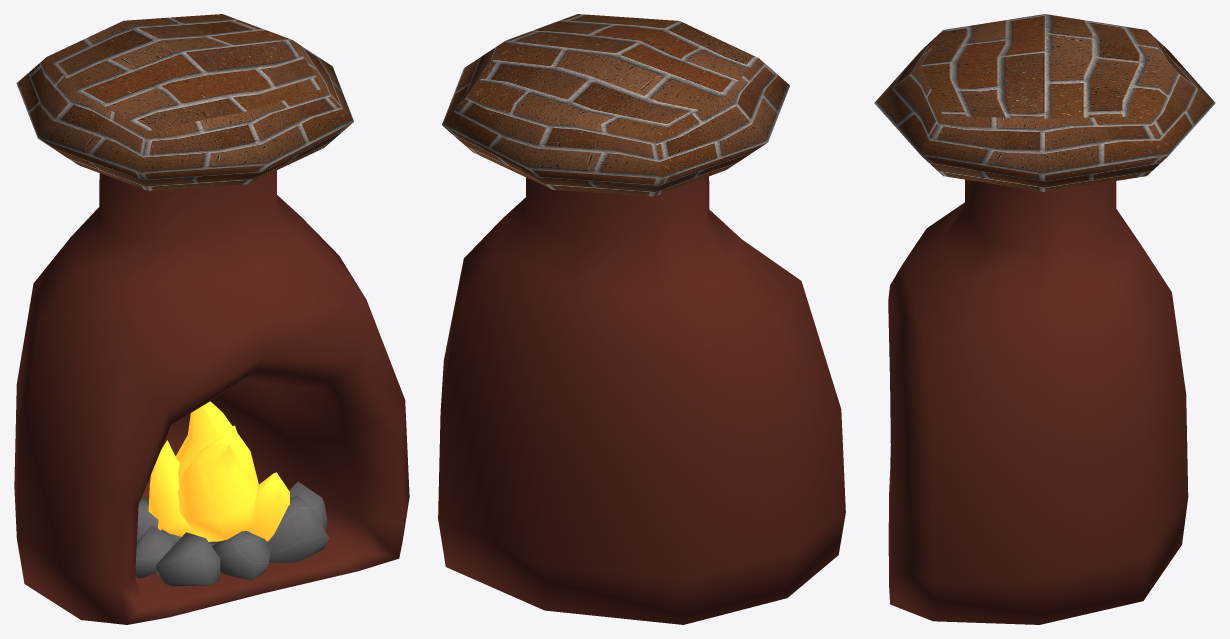
Rendered from chimney.glb.
3 views of the same model, side by side, from view 1: azimuth 30°, elevation 25°; view 2: azimuth 150°, elevation 25°; view 3: azimuth 270°, elevation 25° (orthographic). The views are drawn at different scales.
Parts seen in each view (by area): view 1: Chimney, Chimney_top; view 2: Chimney, Chimney_top; view 3: Chimney, Chimney_top.
Part boxes in pixels (x1,y1,x2,y2): Chimney: [14, 170, 409, 624]; Chimney_top: [16, 14, 353, 190]; Chimney: [438, 176, 845, 624]; Chimney_top: [442, 14, 789, 196]; Chimney: [888, 179, 1188, 624]; Chimney_top: [874, 14, 1215, 191].
Size of what is drawn, in the model's own units: 2.67 by 3.72 by 2.3.
Materials: 3 (3 with a texture image).
